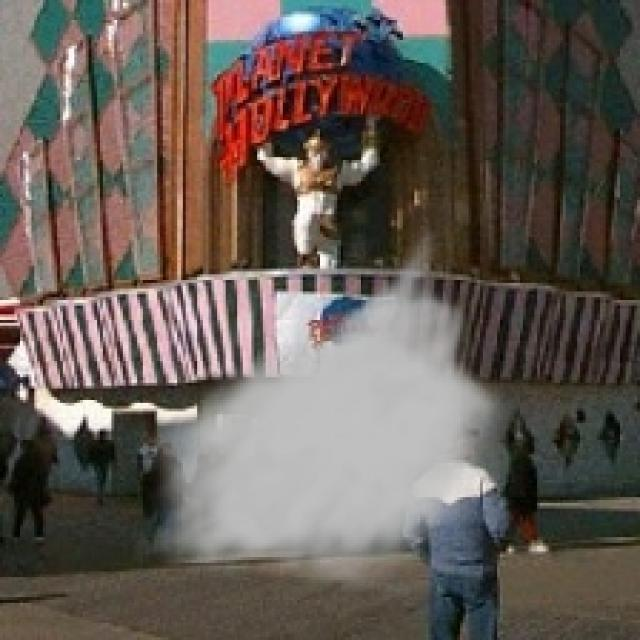Smoke: (132, 219, 514, 592)
